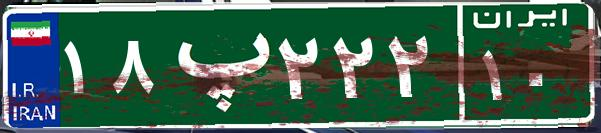0: (525, 38, 570, 115)
1: (57, 26, 110, 107), (475, 38, 525, 113)
2: (385, 28, 445, 110), (273, 28, 330, 110), (330, 28, 385, 110)
8: (110, 28, 158, 105)
پ: (158, 15, 273, 115)
